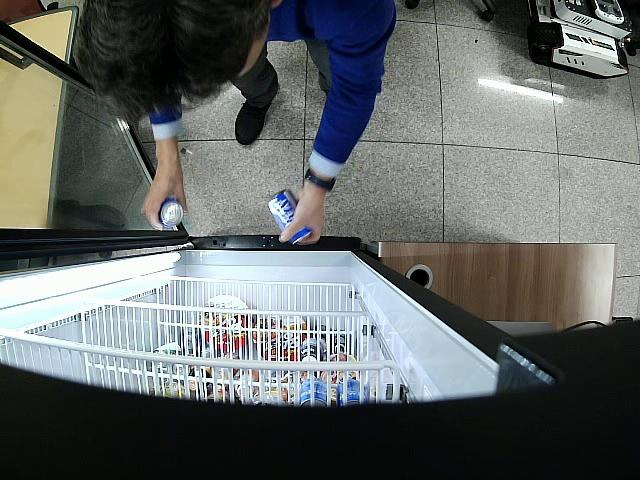00_hand: (141, 150, 188, 230), (279, 185, 325, 244)
13_pocariSweat: (268, 189, 311, 244)
